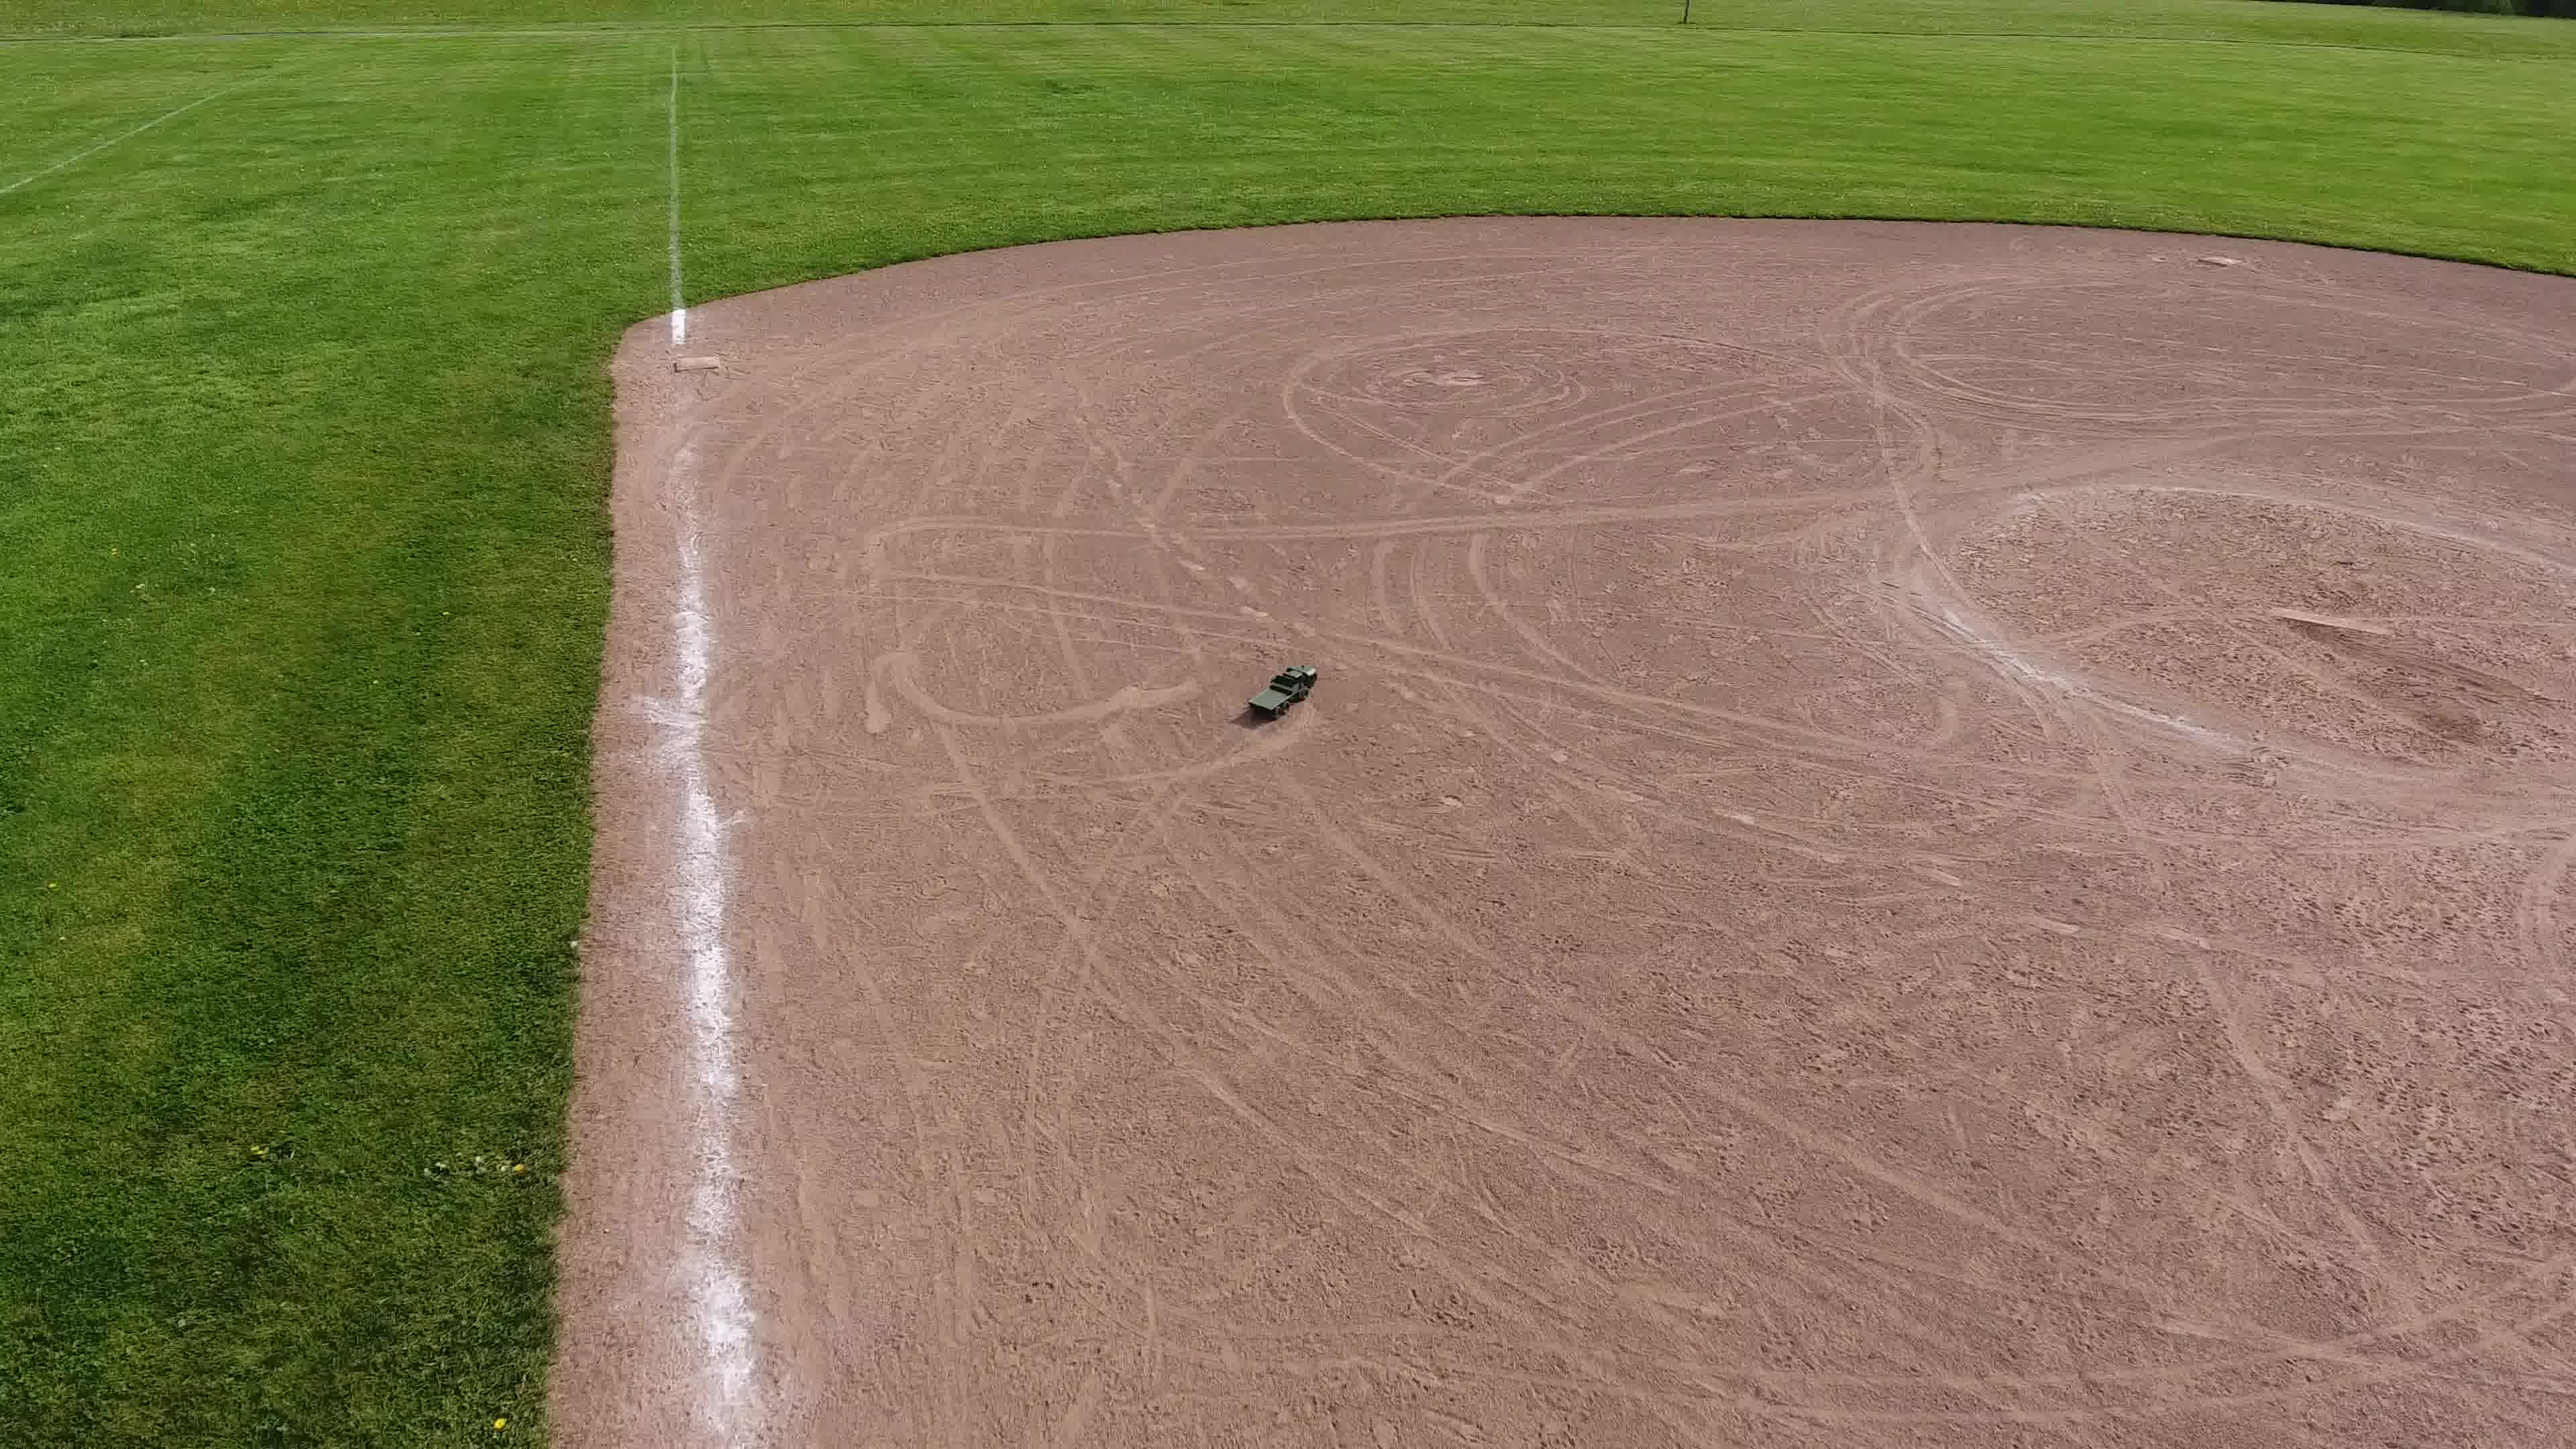transporter9: (1242, 656, 1320, 727)
